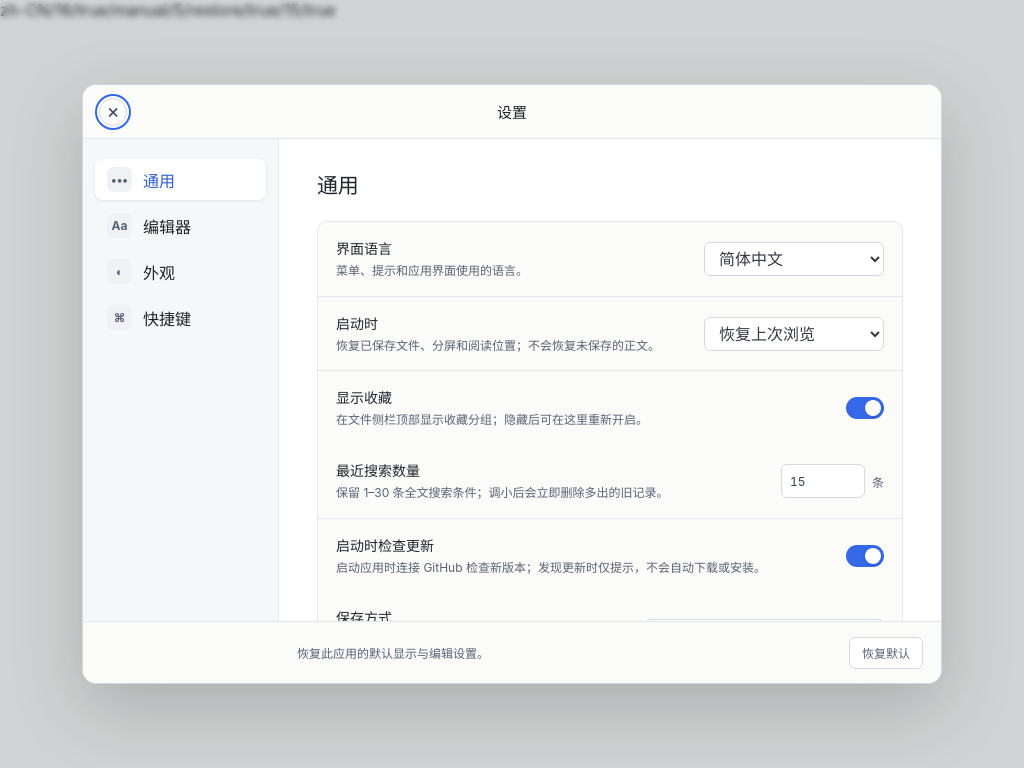
Scenario: SettingsDialog › offers localized startup behavior in zh-CN
This screenshot has width=1024, height=768.
Expected: the text "在文件侧栏顶部显示收藏分组；隐藏后可在这里重新开启。" is shown, [336,411,648,428]
Expected: the text "启动应用时连接 GitHub 检查新版本；发现更新时仅提示，不会自动下载或安装。" is shown, [336,559,766,576]
Select "打开空白窗口" in the dropdown labelled "启动时" at (794, 334), box [704,316,884,350]
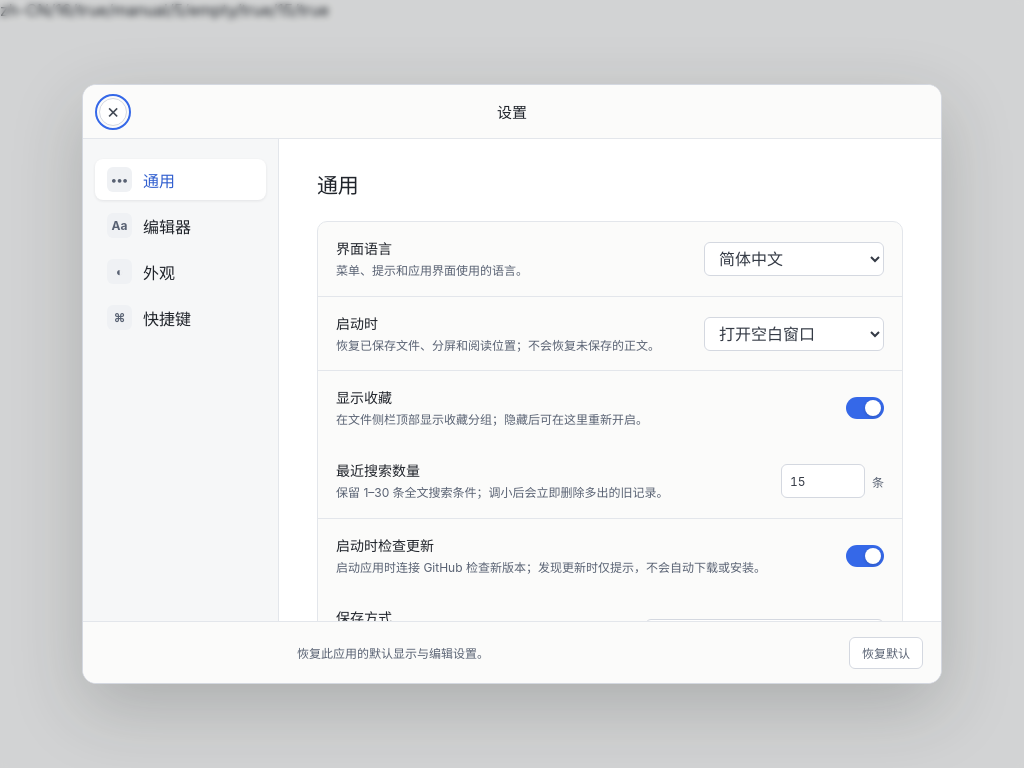
Result: the text named "settings-summary" shows "/empty" at [0,0,329,20]
Click the checkbox labelled "显示收藏" at (364, 397), box [318,370,902,444]
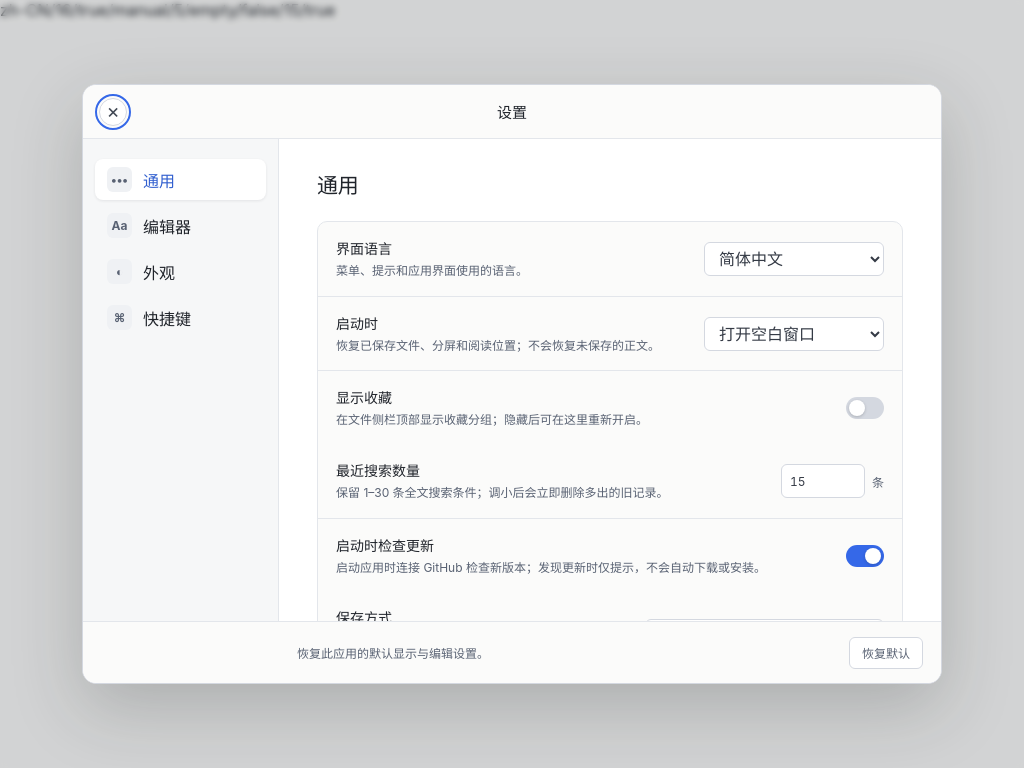
Result: the checkbox labelled "显示收藏" is not checked at [318,370,902,444]
Replace the text in the number field labelled "最近搜索数量" with "18" at (823, 481), box [781,464,865,498]
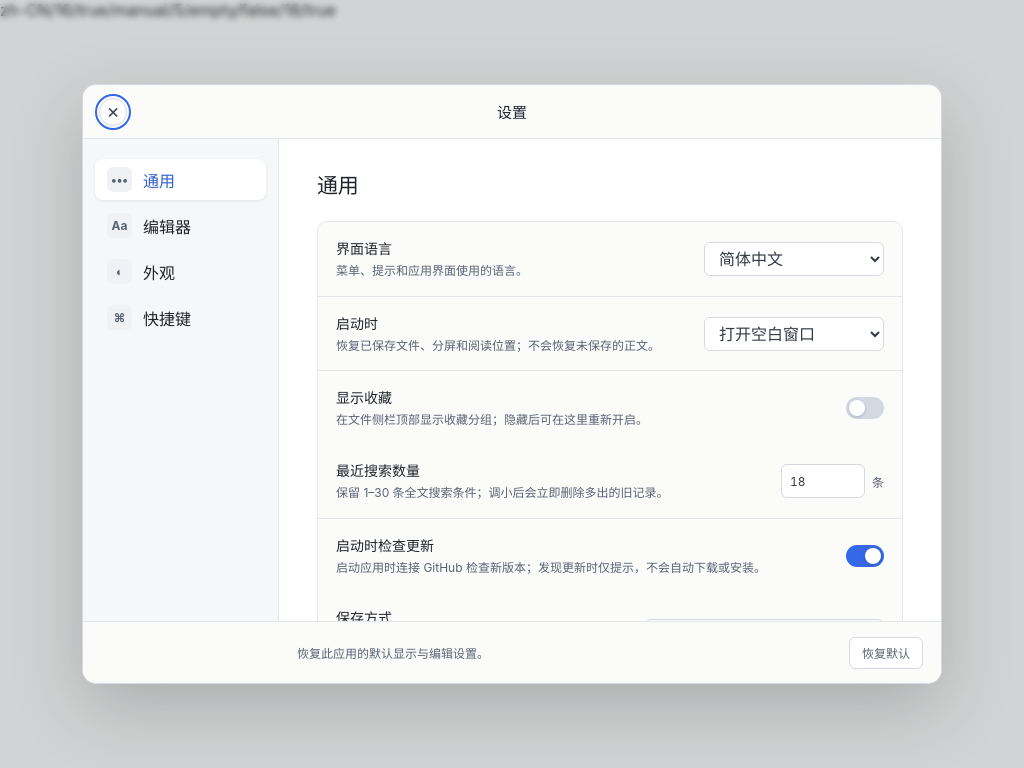
Click the checkbox labelled "启动时检查更新" at (385, 545), box [318,518,902,592]
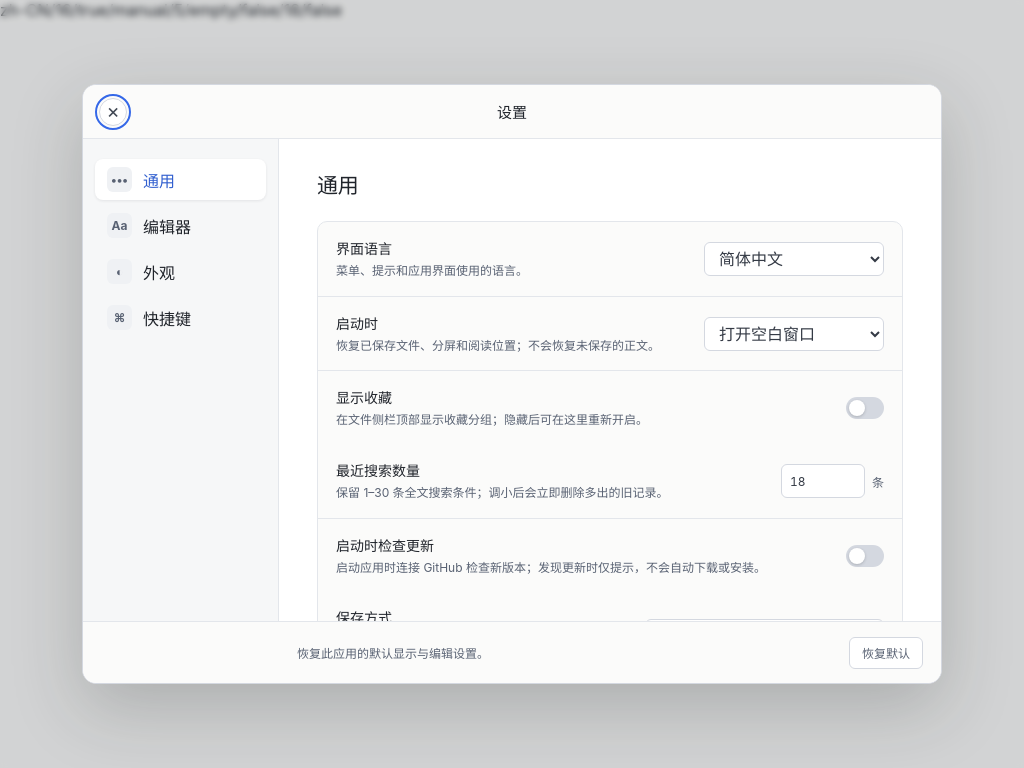
Result: the checkbox labelled "启动时检查更新" is not checked at [318,518,902,592]
Result: the text named "settings-summary" shows "/empty/false/18/false" at [0,0,342,20]
